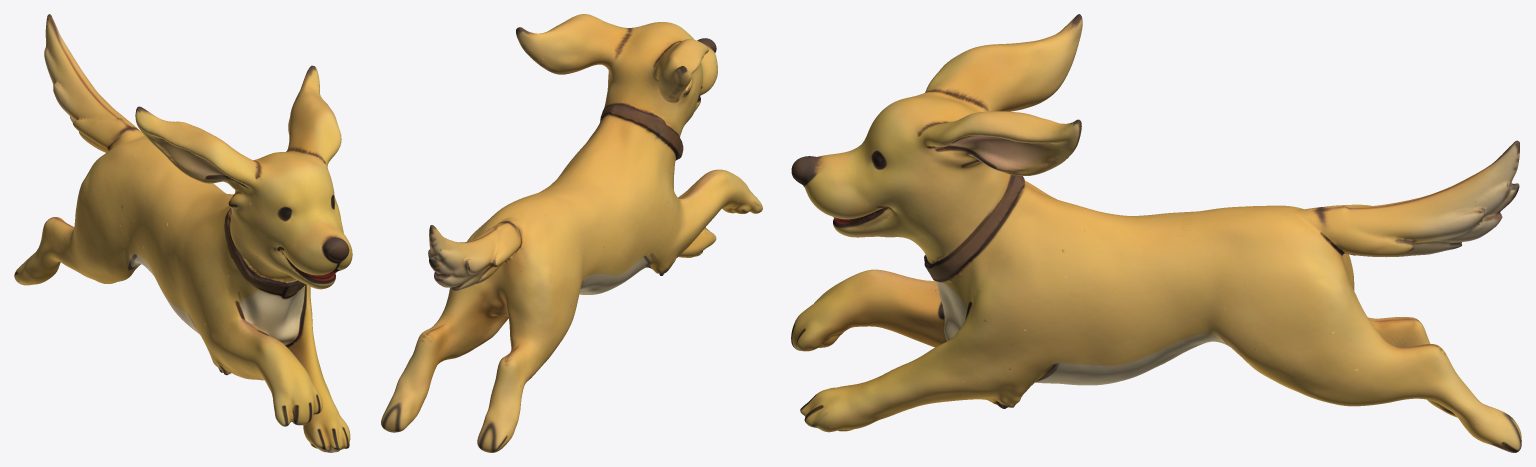
File: pet_dog_run_3.glb
3 renders of one model, left to right at view 1: azimuth 30°, elevation 25°; view 2: azimuth 150°, elevation 25°; view 3: azimuth 270°, elevation 25°, orthographic. The views are drawn at different scales.
Visible parts, largest first — view 1: Mesh_0.006; view 2: Mesh_0.006; view 3: Mesh_0.006.
Part boxes in pixels (bbox=[...]): Mesh_0.006: bbox=[14, 14, 352, 452]; Mesh_0.006: bbox=[381, 14, 762, 452]; Mesh_0.006: bbox=[791, 14, 1521, 452].
Size of the model in its own units: 0.6928 by 1.1 by 1.95.
Materials: 1 (1 with a texture image).
